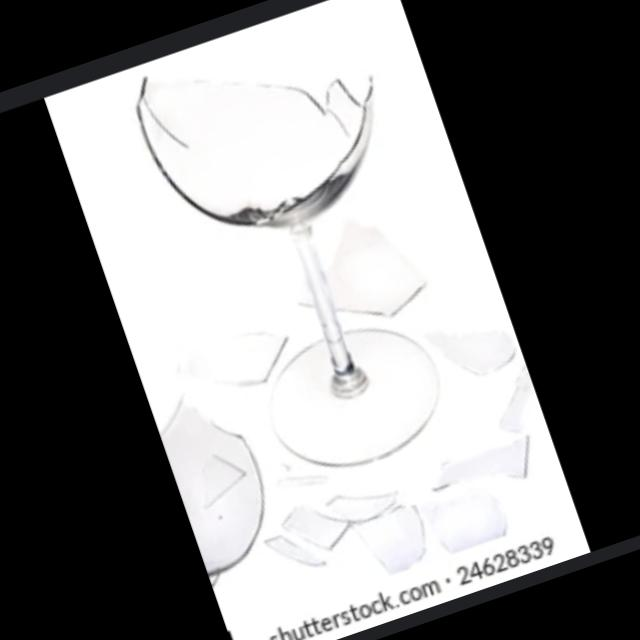PecahanKaca: (120, 4, 490, 498), (122, 4, 410, 266)
